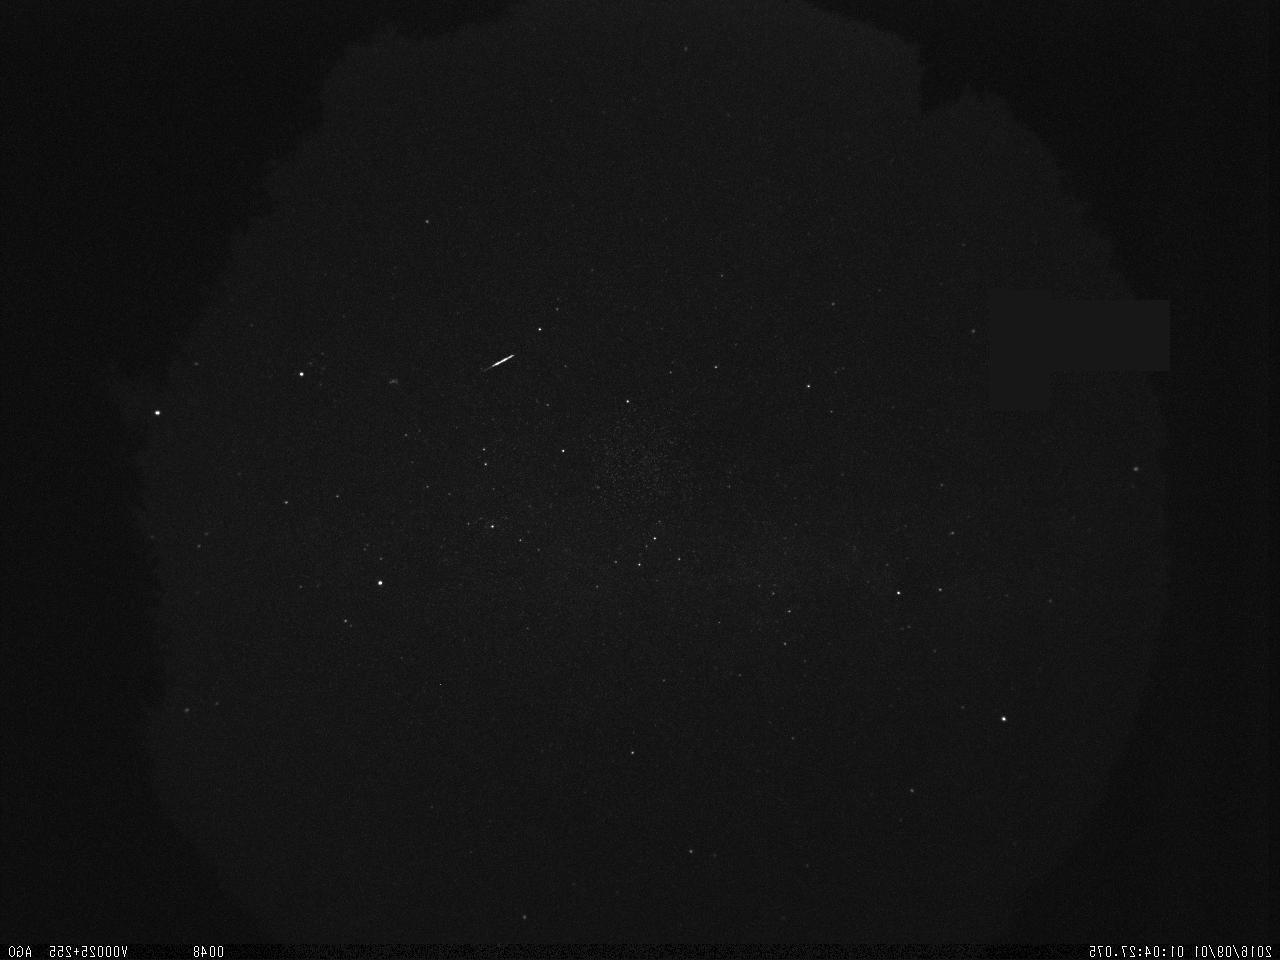meteor: (474, 347, 521, 379)
